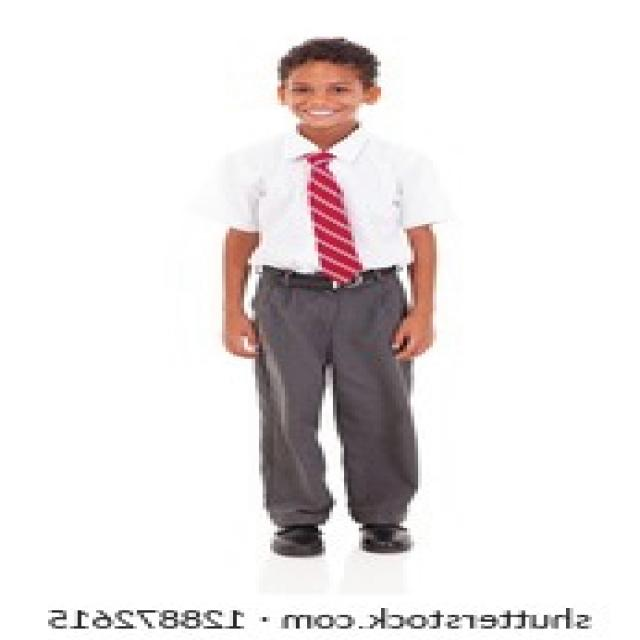child: (196, 11, 462, 574)
